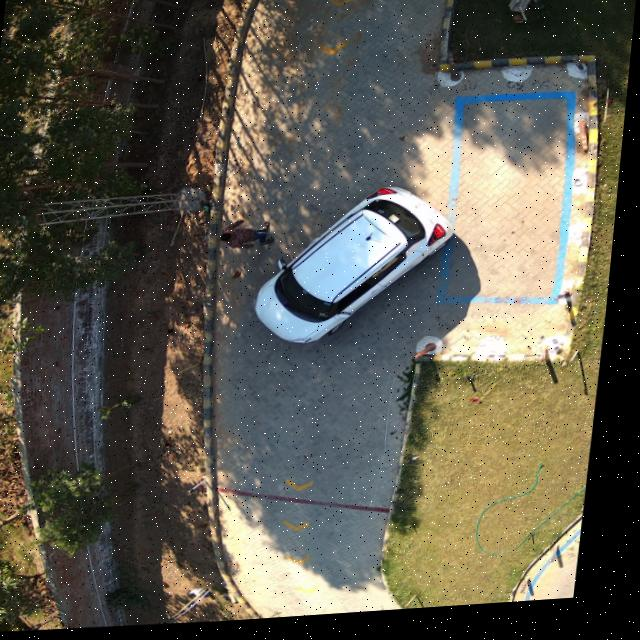car: (262, 190, 461, 349)
